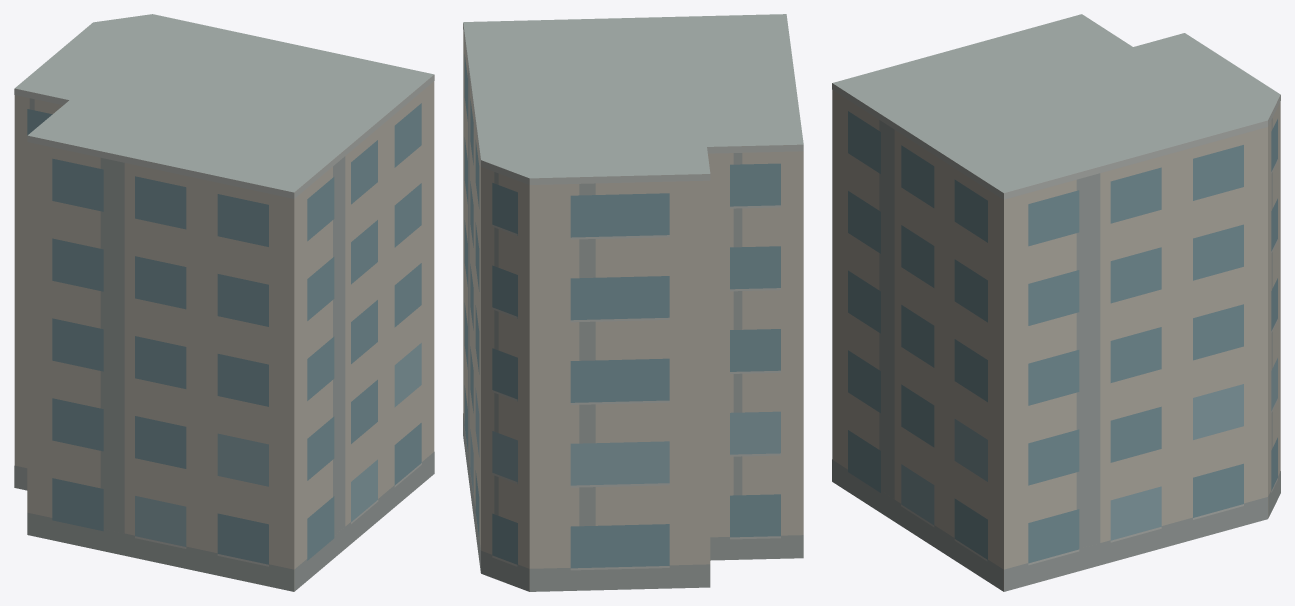
Rendered from residential-a61405b2-6945-4318-a12e-3c14c2011179.glb.
The picture shows the model from 3 angles, left to right: view 1: azimuth 30°, elevation 25°; view 2: azimuth 150°, elevation 25°; view 3: azimuth 270°, elevation 25°; orthographic projection. The views are drawn at different scales.
Parts seen in each view (by area): view 1: residential-a61405b2-6945-4318-a12e-3c14c2011179.tmp; view 2: residential-a61405b2-6945-4318-a12e-3c14c2011179.tmp; view 3: residential-a61405b2-6945-4318-a12e-3c14c2011179.tmp.
Part boxes in pixels (x1,y1,x2,y2): residential-a61405b2-6945-4318-a12e-3c14c2011179.tmp: (14, 14, 434, 591); residential-a61405b2-6945-4318-a12e-3c14c2011179.tmp: (463, 14, 803, 591); residential-a61405b2-6945-4318-a12e-3c14c2011179.tmp: (832, 14, 1280, 591).
Size of the model in its own units: 14.47 by 15 by 15.31.
